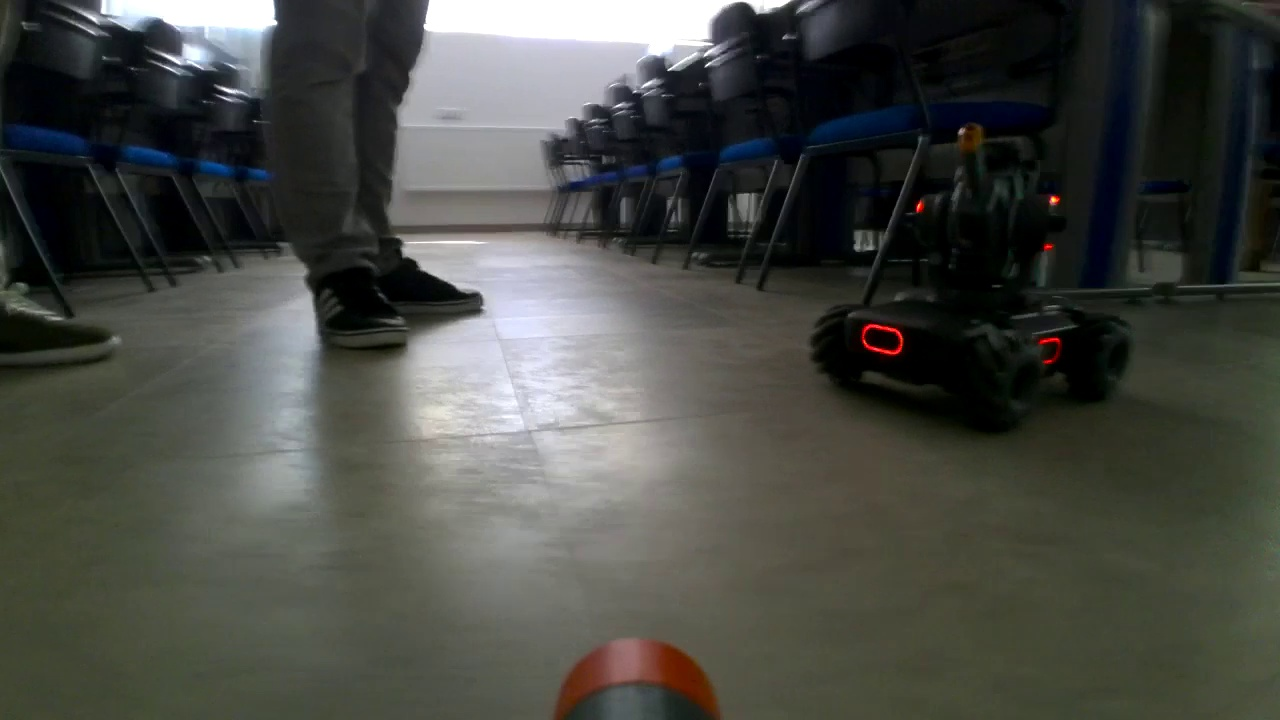robot: (811, 132, 1134, 433)
